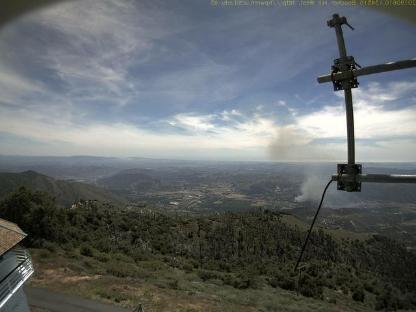smoke: (268, 120, 342, 208)
